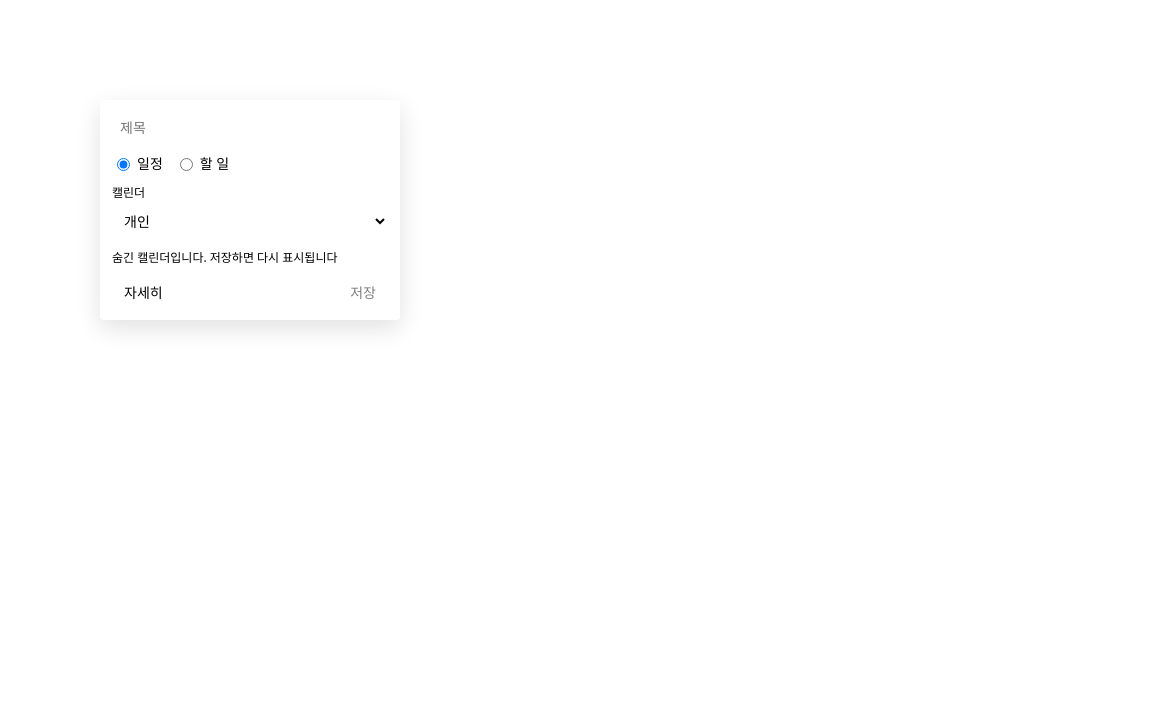
it: QuickCreatePopover › 숨긴 캘린더만 있어도 선택할 수 있다
Later steps or results of the test are not shown.
expect the dropdown labelled "캘린더" shows "개인": met, box 112,205 -> 388,238
Type "1:1" into the field labelled "제목".
click(250, 128); type("1:1")  # box 112,112 -> 388,143
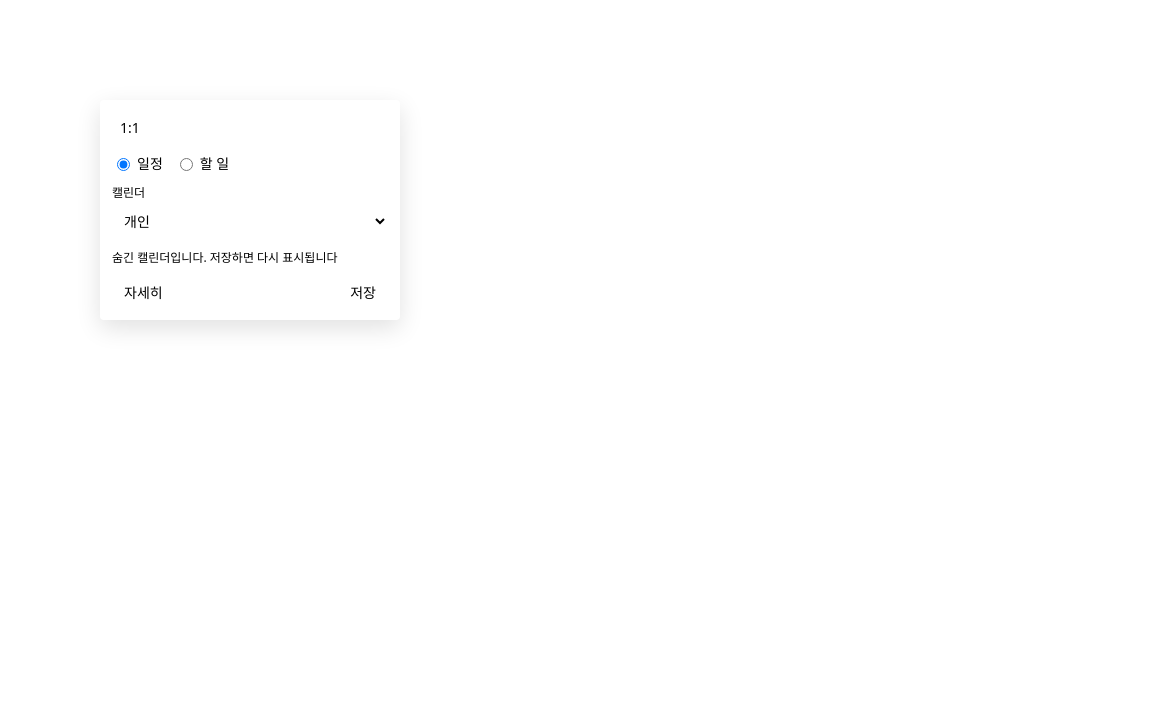
expect the button "저장" is enabled: met, box 338,276 -> 388,308
